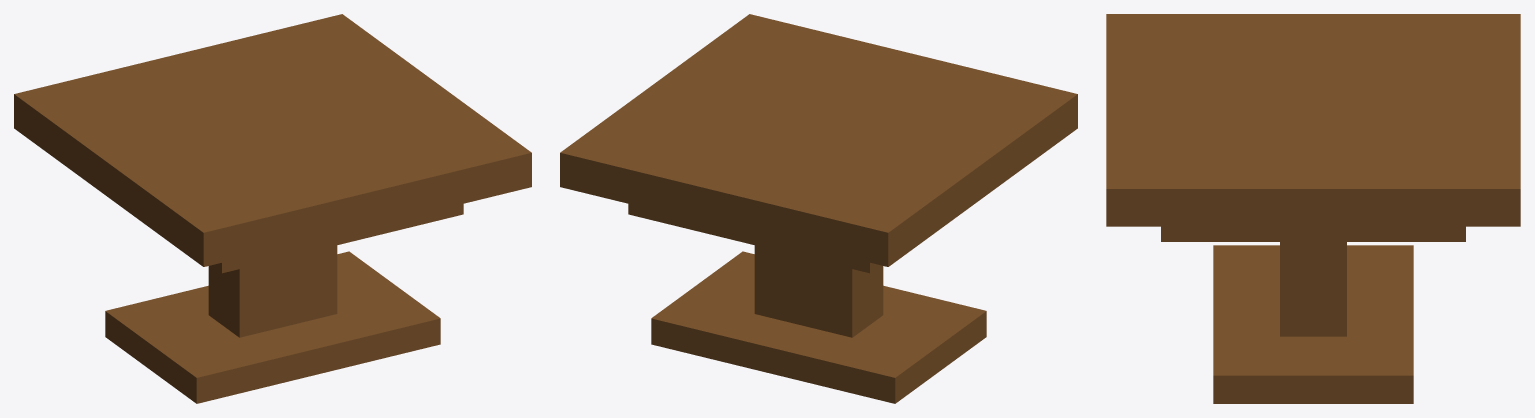
File: mesinha.FBX
The picture shows the model from 3 angles, left to right: view 1: azimuth 30°, elevation 25°; view 2: azimuth 150°, elevation 25°; view 3: azimuth 270°, elevation 25°; orthographic projection. The views are drawn at different scales.
Visible parts, largest first — view 1: mesinha; view 2: mesinha; view 3: mesinha.
Boxes of the visible parts, x1,y1,x2,y2 form: mesinha: (14,14,531,403); mesinha: (560,14,1077,403); mesinha: (1106,14,1520,403).
Bounding box in the file's own units: 39.37 × 24.9 × 39.37.
1 material, 1 textured.
